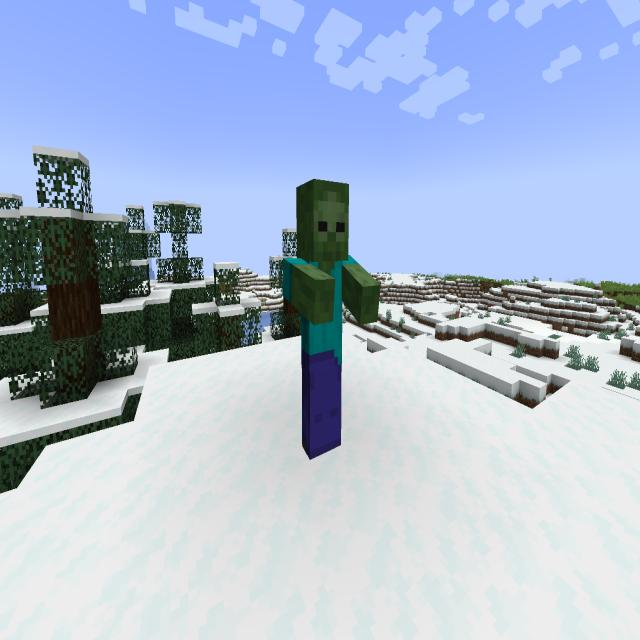Zombie: (275, 164, 389, 473)
